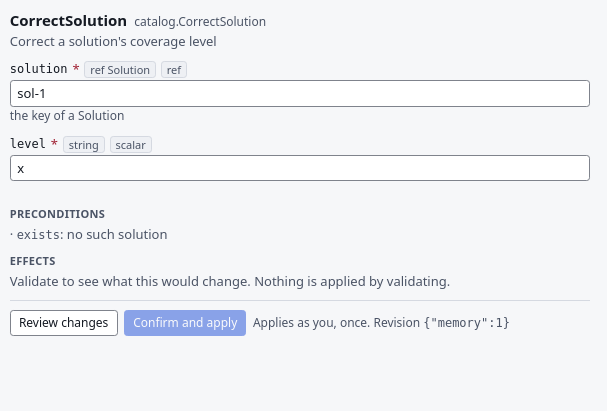
Scenario: Safety (US-064) › US-064: controls stay disabled after a refusal, and the reason is shown
Click the button with test id "validate" at coordinates (64, 323), box [10,310,118,336]
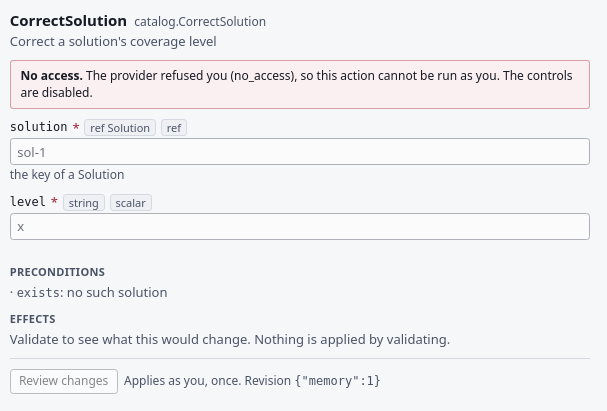
Expected: the text "The provider refused you" shows "no_access", [86,67,500,84]
Expected: the button with test id "validate" is disabled, [10,369,118,394]
Expected: the field labelled "solution * ref Solution ref" is disabled, [10,138,590,165]
